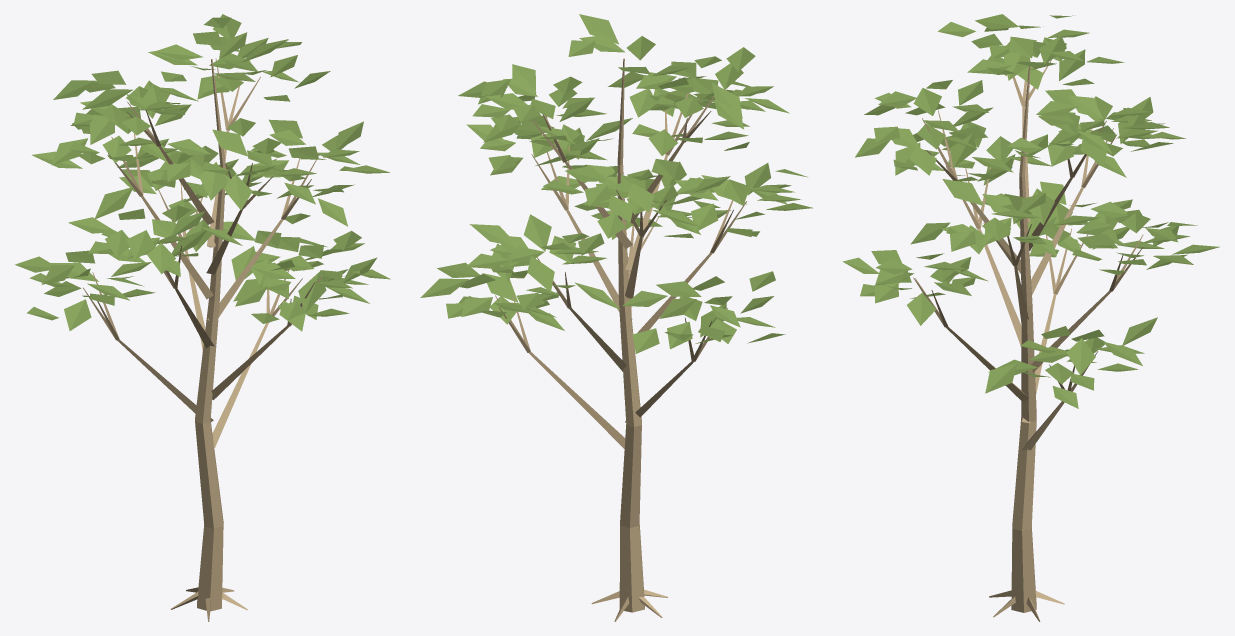
File: birch-lod1.glb
3 views of the same model, side by side, from view 1: azimuth 30°, elevation 25°; view 2: azimuth 150°, elevation 25°; view 3: azimuth 270°, elevation 25° (orthographic).
Visible parts, largest first — view 1: tree_birch_LOD1; view 2: tree_birch_LOD1; view 3: tree_birch_LOD1.
Part boxes in pixels (x1,y1,x2,y2): tree_birch_LOD1: [15, 14, 390, 621]; tree_birch_LOD1: [420, 14, 812, 621]; tree_birch_LOD1: [842, 14, 1219, 621].
Bounding box in the file's own units: 7.96 × 12.54 × 7.57.
